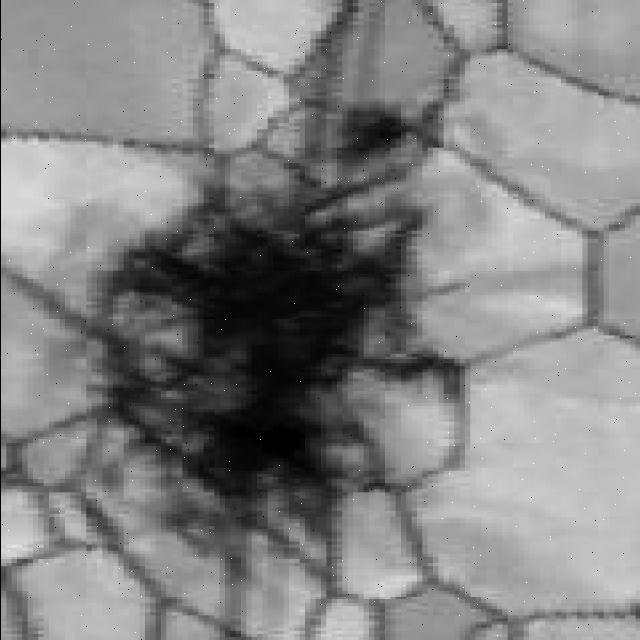good_void: (76, 104, 476, 552)
